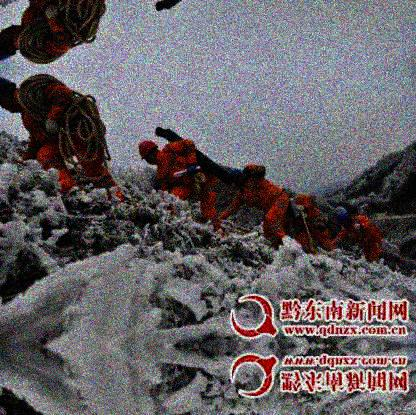helmet: (1, 25, 19, 54), (136, 141, 158, 164), (1, 85, 19, 113), (222, 168, 245, 187), (331, 207, 350, 226)
